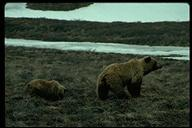bear: (89, 53, 165, 108)
water: (8, 38, 188, 56), (7, 4, 184, 21)
